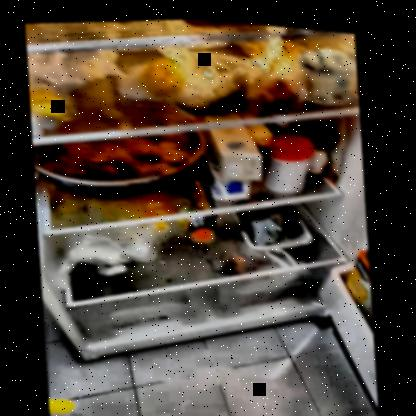broccoli: (236, 197, 312, 248)
lemon: (25, 81, 79, 129)
milk: (204, 121, 265, 200)
tomato: (259, 69, 303, 104)
yoghurt: (302, 40, 362, 102)
